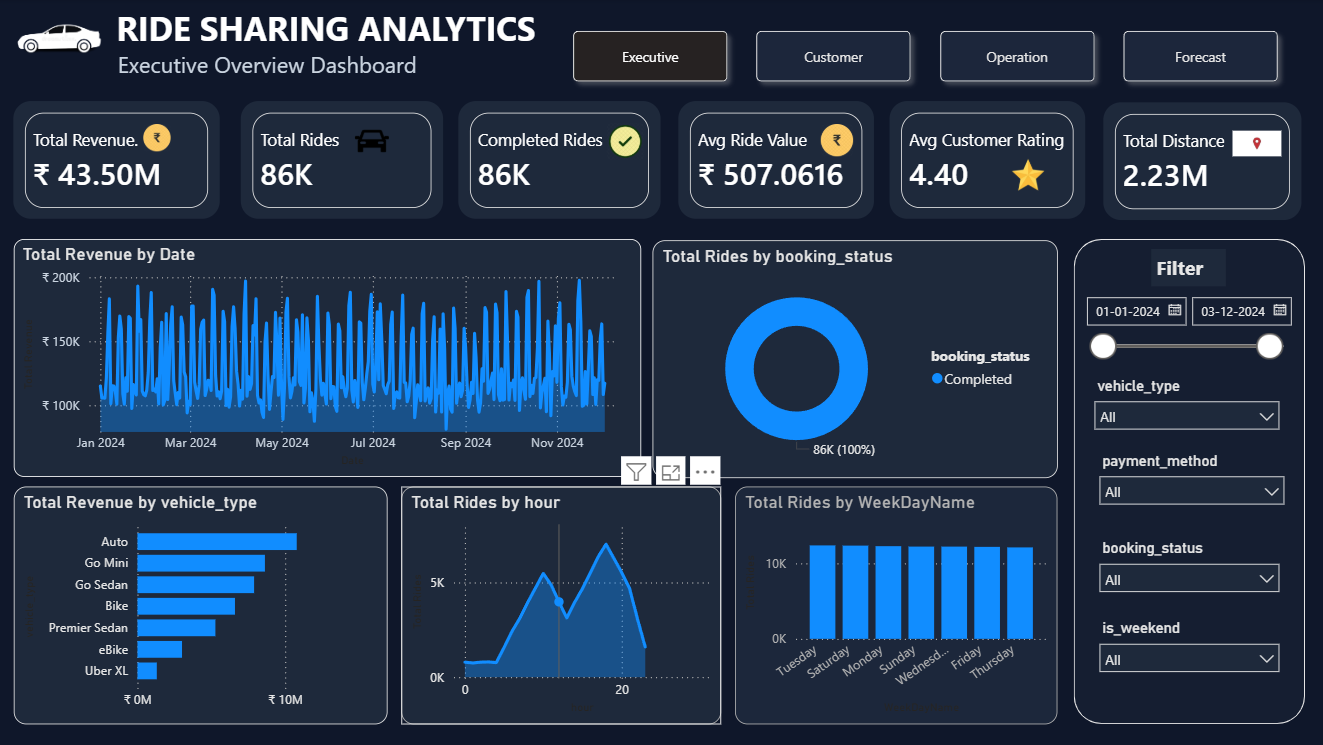

Layout of this report page (visuals, bound fields, positions):
{"tool":"powerbi","page":{"name":"Executive","canvas":[1280,720],"ordinal":0},"visuals":[{"type":"shape","box":[1036.3,231.6,223.2,468.1],"z":0},{"type":"textbox","box":[107.1,1.7,533.7,75.3],"z":1000},{"type":"textbox","box":[108.6,43.4,322.1,42.2],"z":2000},{"type":"image","box":[13.4,10,87,55.2],"z":3000},{"type":"cardVisual","fields":{"Data":["Measure (2).Total Revenue M"]},"box":[9.7,95.3,205.1,119.4],"z":4000},{"type":"cardVisual","fields":{"Data":["Measure (2).Total Rides"]},"box":[229.2,95.3,201.5,119.4],"z":5000},{"type":"cardVisual","fields":{"Data":["Measure (2).Completed Rides"]},"box":[439.1,95.3,201.5,119.4],"z":6000},{"type":"cardVisual","fields":{"Data":["Measure (2).Avg Ride Value"]},"box":[651.5,95.3,195.4,119.4],"z":7000},{"type":"cardVisual","fields":{"Data":["Measure (2).Avg Customer Rating"]},"box":[855.4,95.3,195.4,119.4],"z":8000},{"type":"cardVisual","fields":{"Data":["Measure (2).Total Distance"]},"box":[1061.7,96.5,197.9,119.4],"z":9000},{"type":"image","box":[127.9,120.6,47.1,26.5],"z":10000},{"type":"image","box":[330.6,120.6,56.7,32.6],"z":11000},{"type":"image","box":[579.1,119.4,48.3,36.2],"z":12000},{"type":"image","box":[962.7,153.2,59.1,32.6],"z":13000},{"type":"image","box":[1189.6,125.5,47.1,27.7],"z":14000},{"type":"image","box":[784.2,120.6,47.1,31.4],"z":15000},{"type":"areaChart","fields":{"Category":["Dim_Date.Date"],"Y":["Measure (2).Total Revenue"]},"box":[13.3,231.6,605.6,229.2],"z":16000},{"type":"donutChart","fields":{"Category":["Dim_Status.booking_status"],"Y":["Measure (2).Total Rides"]},"box":[630.3,232.3,391,229.6],"z":17000},{"type":"clusteredBarChart","fields":{"Category":["Dim_Vehicle.vehicle_type"],"Y":["Measure (2).Total Revenue"]},"box":[13.3,470.5,360.7,229.2],"z":18000},{"type":"areaChart","fields":{"Category":["Fact_Rides.hour"],"Y":["Measure (2).Total Rides"]},"box":[387.3,470.5,308.8,229.2],"z":19000},{"type":"textbox","box":[1111.1,241.3,72.4,36.2],"z":20000},{"type":"slicer","fields":{"Values":["Fact_Rides.date"]},"box":[1036.3,277.5,223.2,103.8],"z":21000},{"type":"slicer","fields":{"Values":["Fact_Rides.vehicle_type"]},"box":[1046,359.5,199.1,72.4],"z":22000},{"type":"slicer","fields":{"Values":["Fact_Rides.payment_method"]},"box":[1050.8,431.9,199.1,74.8],"z":23000},{"type":"slicer","fields":{"Values":["Fact_Rides.booking_status"]},"box":[1050.8,516.4,194.2,68.8],"z":24000},{"type":"slicer","fields":{"Values":["Fact_Rides.is_weekend"]},"box":[1050.8,593.6,194.2,83.2],"z":25000},{"type":"pageNavigator","box":[544.1,21.7,700.9,67.6],"z":25001},{"type":"clusteredColumnChart","fields":{"Category":["Fact_Rides.WeekDayName"],"Y":["Measure (2).Total Rides"]},"box":[709.4,470.5,311.3,229.2],"z":25002}]}

Visuals, with their boxes in screenshot pixels (x1, y1, x2, y2), scaled from the page's 1280x720 canvas onto the 1323x745 screenshot:
shape: 1071 240 1302 724
textbox: 111 2 662 80
textbox: 112 45 445 89
image: 14 10 104 67
cardVisual - Measure (2).Total Revenue M: 10 99 222 222
cardVisual - Measure (2).Total Rides: 237 99 445 222
cardVisual - Measure (2).Completed Rides: 454 99 662 222
cardVisual - Measure (2).Avg Ride Value: 673 99 875 222
cardVisual - Measure (2).Avg Customer Rating: 884 99 1086 222
cardVisual - Measure (2).Total Distance: 1097 100 1302 223
image: 132 125 181 152
image: 342 125 400 159
image: 599 124 648 161
image: 995 159 1056 192
image: 1230 130 1278 159
image: 811 125 859 157
areaChart - Dim_Date.Date x Measure (2).Total Revenue: 14 240 640 477
donutChart - Dim_Status.booking_status x Measure (2).Total Rides: 651 240 1056 478
clusteredBarChart - Dim_Vehicle.vehicle_type x Measure (2).Total Revenue: 14 487 387 724
areaChart - Fact_Rides.hour x Measure (2).Total Rides: 400 487 719 724
textbox: 1148 250 1223 287
slicer - Fact_Rides.date: 1071 287 1302 395
slicer - Fact_Rides.vehicle_type: 1081 372 1287 447
slicer - Fact_Rides.payment_method: 1086 447 1292 524
slicer - Fact_Rides.booking_status: 1086 534 1287 606
slicer - Fact_Rides.is_weekend: 1086 614 1287 700
pageNavigator: 562 22 1287 92
clusteredColumnChart - Fact_Rides.WeekDayName x Measure (2).Total Rides: 733 487 1055 724
